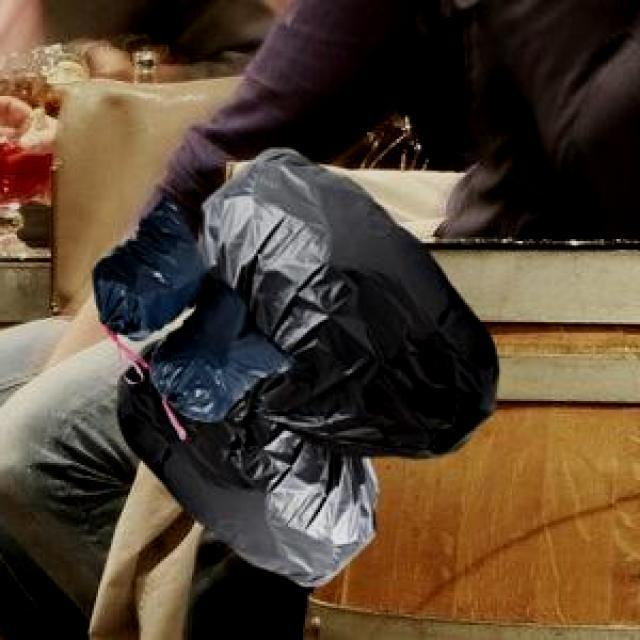Trashbag: (157, 291, 290, 427), (90, 208, 202, 341)
